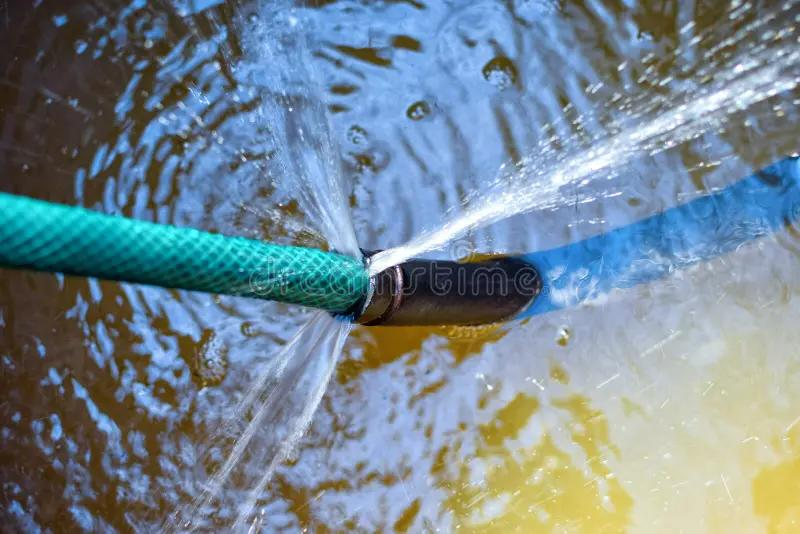pipe burst: (360, 1, 800, 280), (155, 299, 357, 534), (209, 0, 366, 264)
